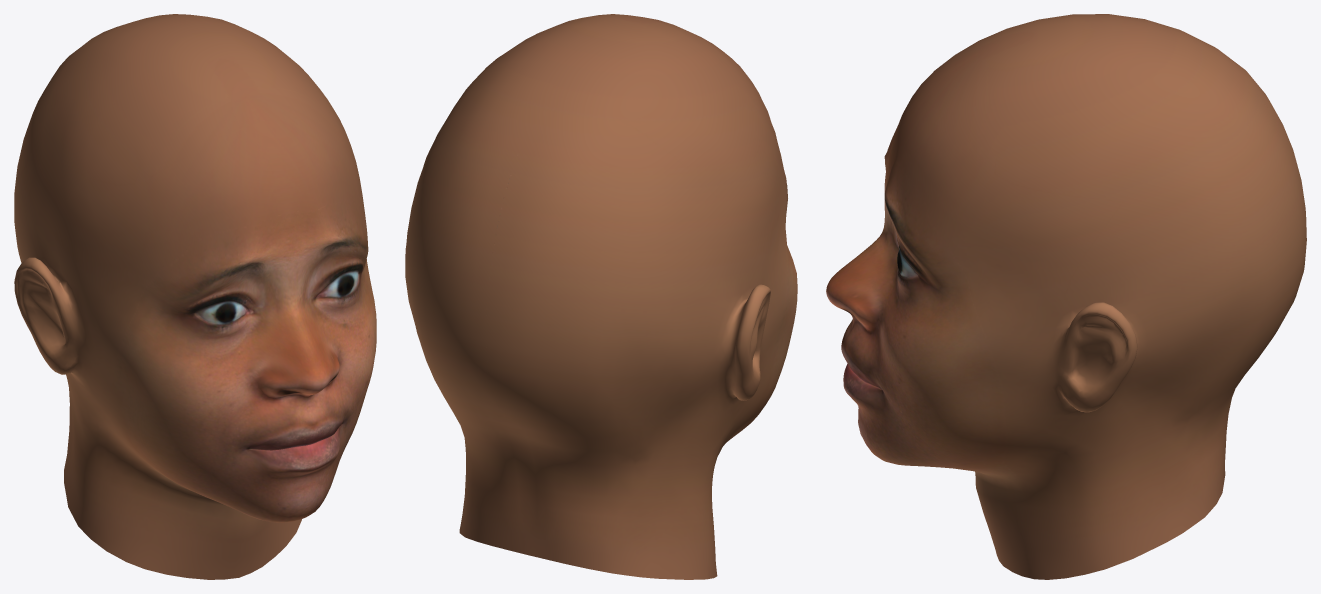
Rendered from v332_obj_ModifierEyebrowsTented.obj.
The picture shows the model from 3 angles, left to right: view 1: azimuth 30°, elevation 25°; view 2: azimuth 150°, elevation 25°; view 3: azimuth 270°, elevation 25°; orthographic projection. The views are drawn at different scales.
Parts seen in each view (by area): view 1: HeadHires; view 2: HeadHires; view 3: HeadHires.
Boxes of the visible parts, <box> form: HeadHires: <box>14,14,376,579</box>; HeadHires: <box>405,14,797,579</box>; HeadHires: <box>826,14,1306,579</box>.
Size of the model in its own units: 187 by 282 by 233.
